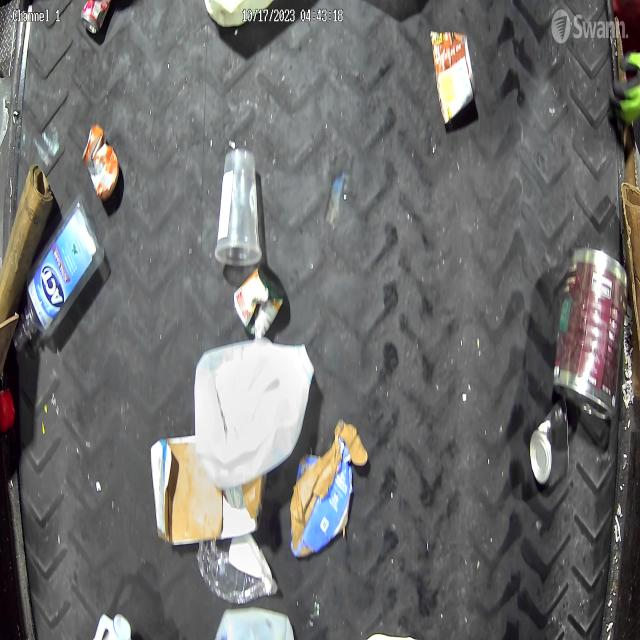can: (555, 241, 627, 412), (431, 28, 478, 127), (530, 394, 569, 492), (234, 269, 288, 338), (82, 121, 122, 202), (79, 1, 115, 36)
milk_jug: (194, 336, 314, 489)
